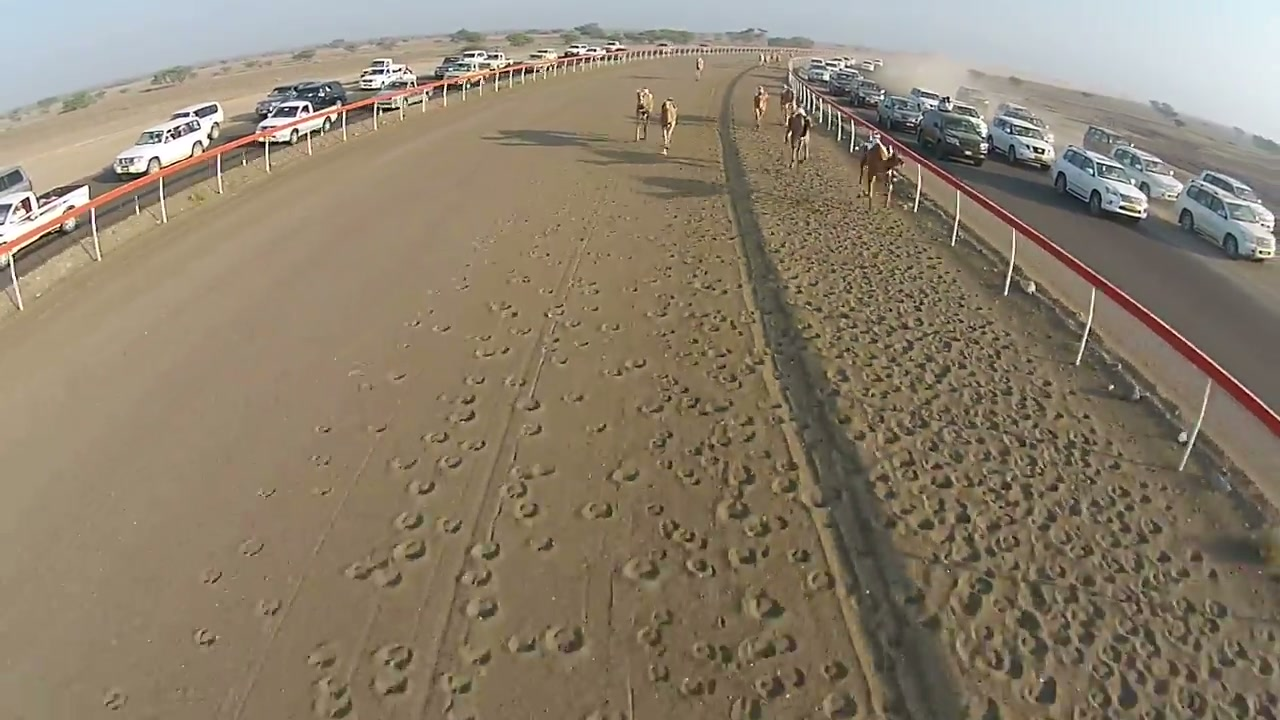animal_footprint: (729, 129, 1279, 717), (391, 166, 873, 717)
